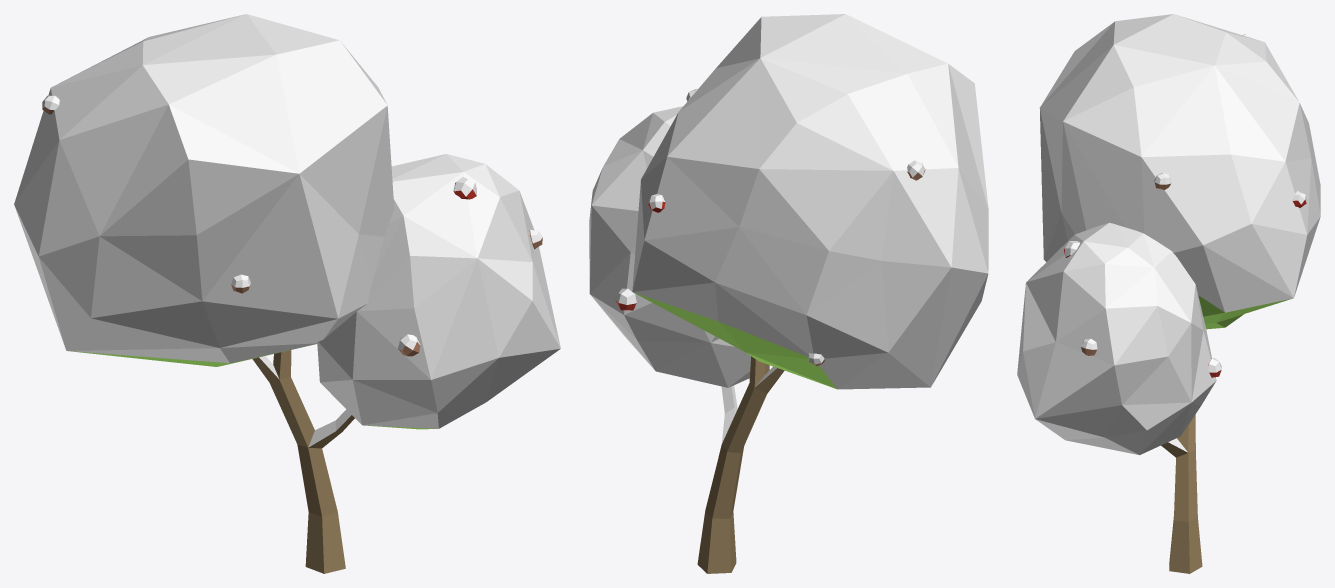
File: Apple_Tree_Apples_m_Snow_06_LOD.fbx
The picture shows the model from 3 angles, left to right: view 1: azimuth 30°, elevation 25°; view 2: azimuth 150°, elevation 25°; view 3: azimuth 270°, elevation 25°; orthographic projection. The views are drawn at different scales.
Parts seen in each view (by area): view 1: Apple_Tree_Apples_m_Snow_06_LOD0; view 2: Apple_Tree_Apples_m_Snow_06_LOD0; view 3: Apple_Tree_Apples_m_Snow_06_LOD0.
Boxes of the visible parts, x1,y1,x2,y2 form: Apple_Tree_Apples_m_Snow_06_LOD0: (14, 14, 560, 573); Apple_Tree_Apples_m_Snow_06_LOD0: (589, 14, 988, 573); Apple_Tree_Apples_m_Snow_06_LOD0: (1017, 14, 1320, 573).
Size of what is drawn, in the model's own units: 620 by 736 by 419.
